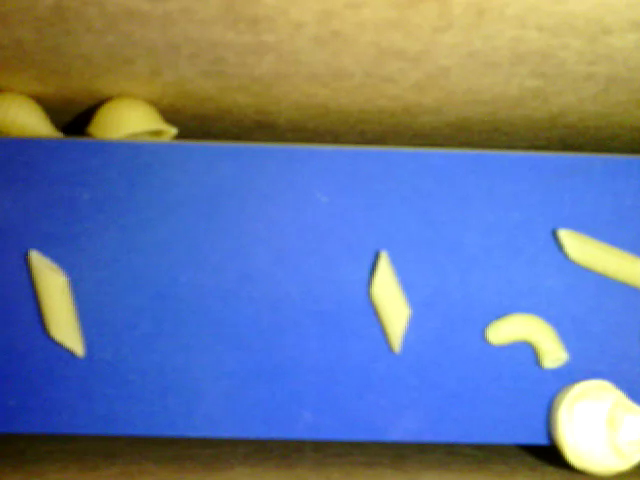elbow: (485, 306, 569, 368)
penne: (545, 377, 639, 475), (29, 248, 86, 360), (364, 249, 415, 357), (554, 228, 639, 290)
shell: (85, 95, 180, 139), (1, 87, 65, 143)
